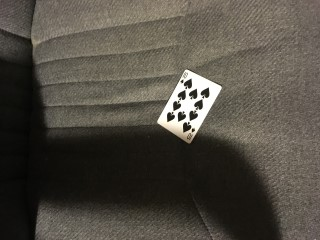TenOfSpades: (157, 69, 222, 143)
